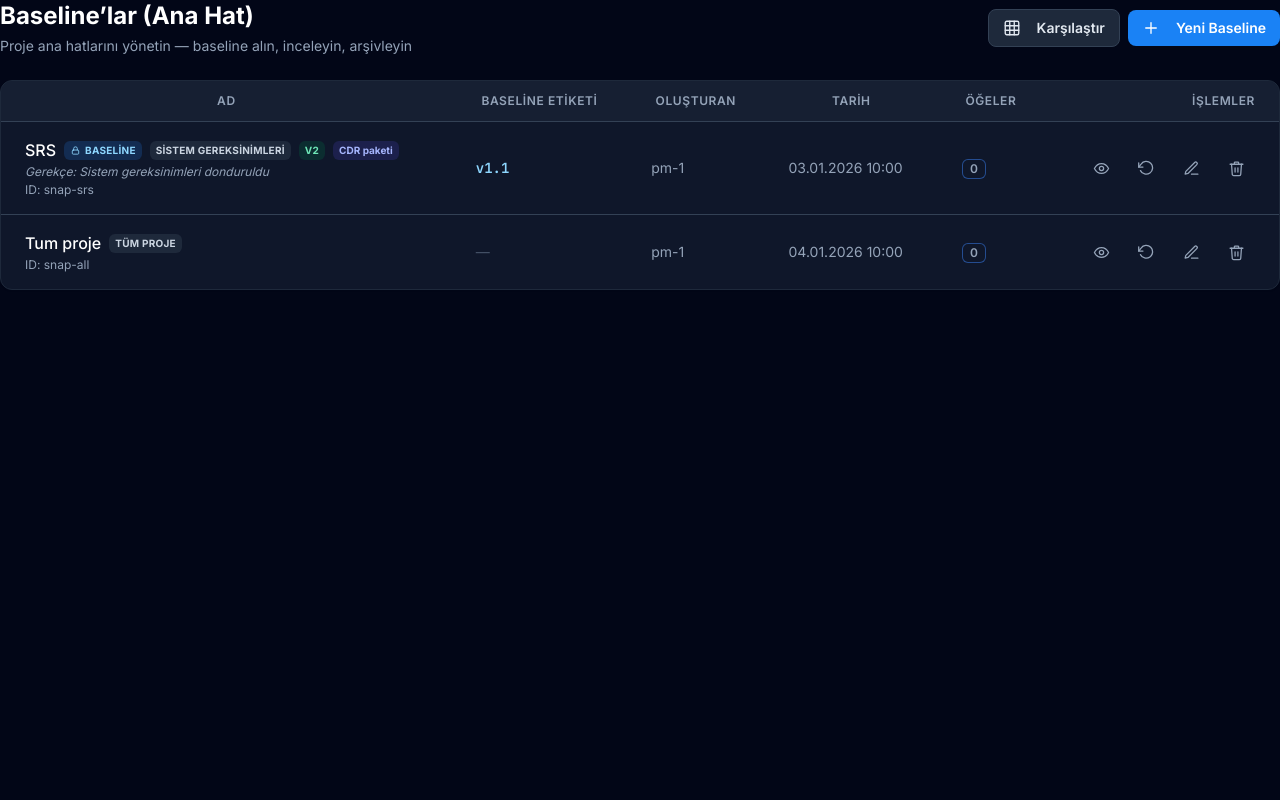
Test: Geri yukleme — kapsam ve kismi secim › kismi secim acilinca SILINECEK kayitlar listelenmez
Click the button named "Güncel baseline’a geri dön" in the row of "Gerekçe" at (1146, 168), box [1128,154,1165,182]
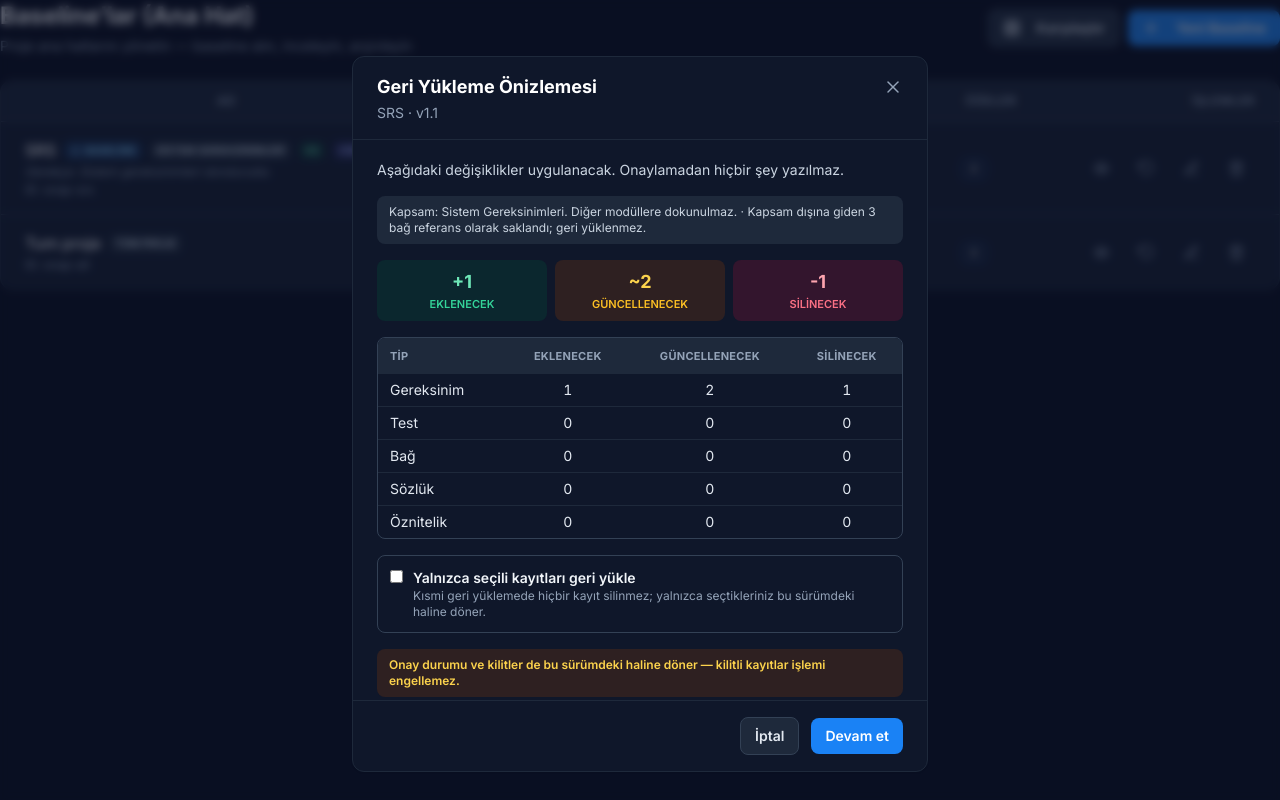
expect the element with test id "restore-totals" is shown: met, box [377,260,903,320]
Click the checkbox with test id "restore-partial-toggle" at (396, 576), box [390,570,403,582]
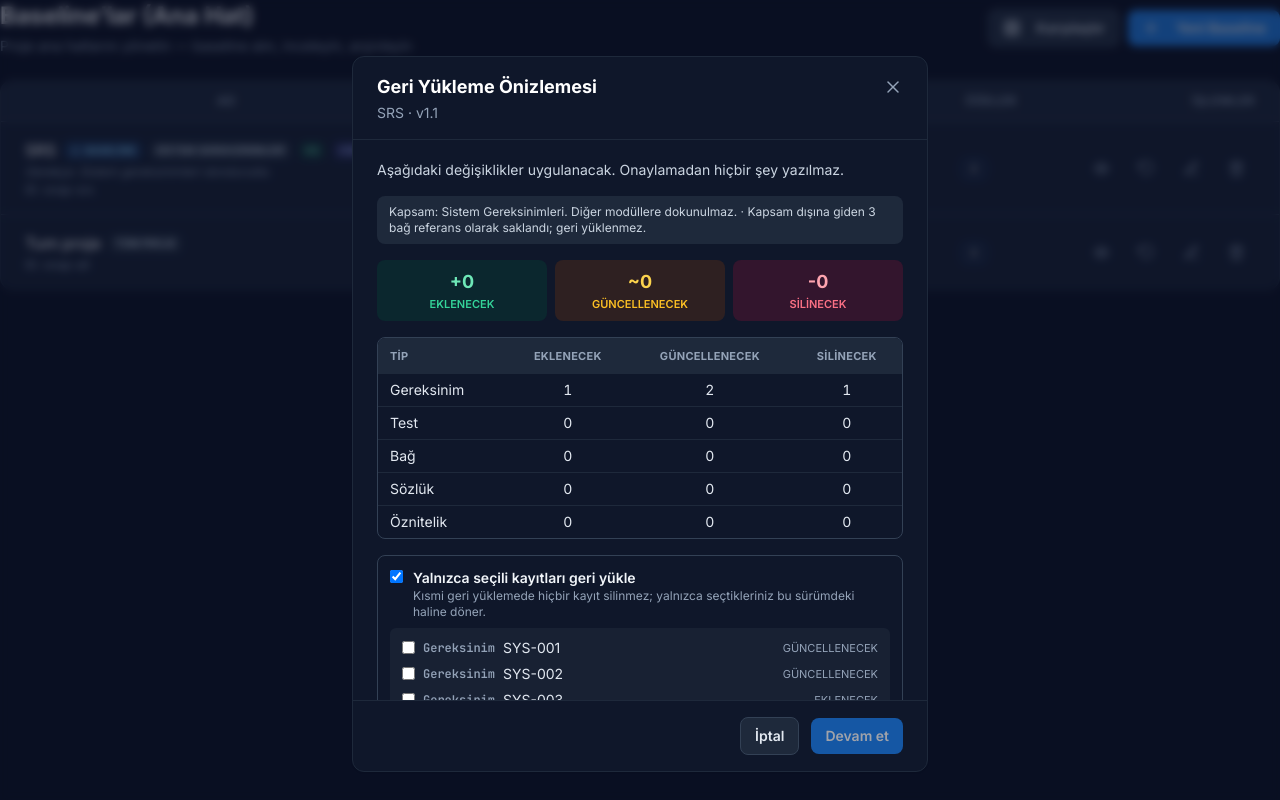
expect the checkbox with test id "restore-pick-r1" is shown: met, box [402,641,415,654]
